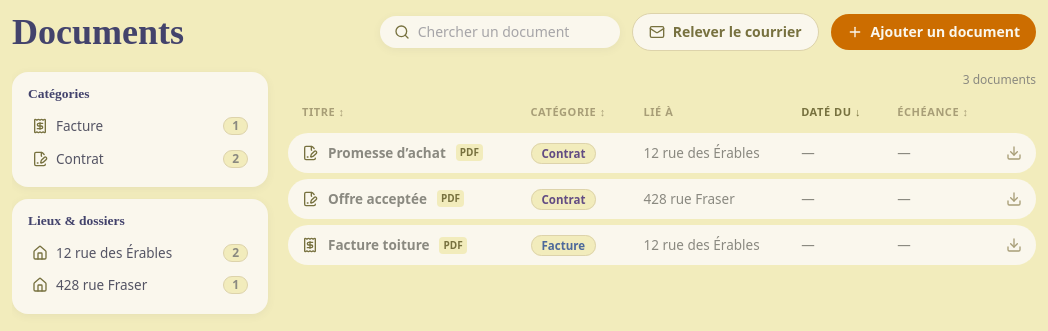
it: les facettes se combinent en ET et se retirent par jeton
The image size is (1048, 331).
Expected: the text "Facture toiture" is shown, [328,235,430,255]
Note: Facette catégorie : seuls les contrats restent.
Click the button with aria-label "Filtrer : Contrat": (140, 159) [24,142,256,175]
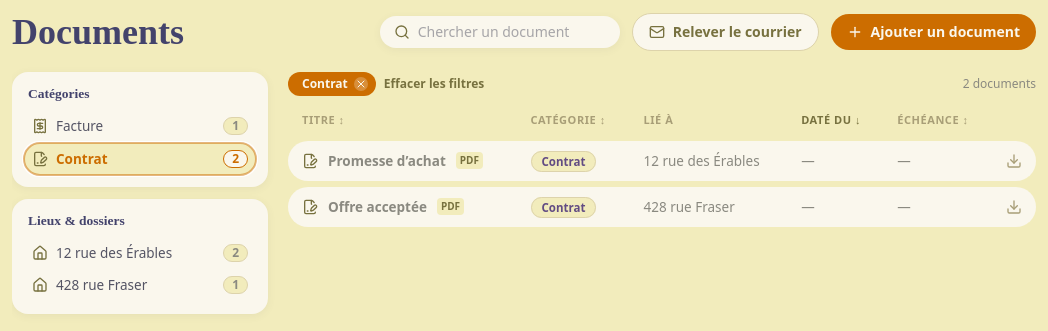
Expected: the text "Offre acceptée" is shown, [328,197,427,217]
Expected: the text "Facture toiture" is gone
Note: + facette dossier : intersection.
Click the button with aria-label "Filtrer : 12 rue des Érables": (140, 253) [24,237,256,269]
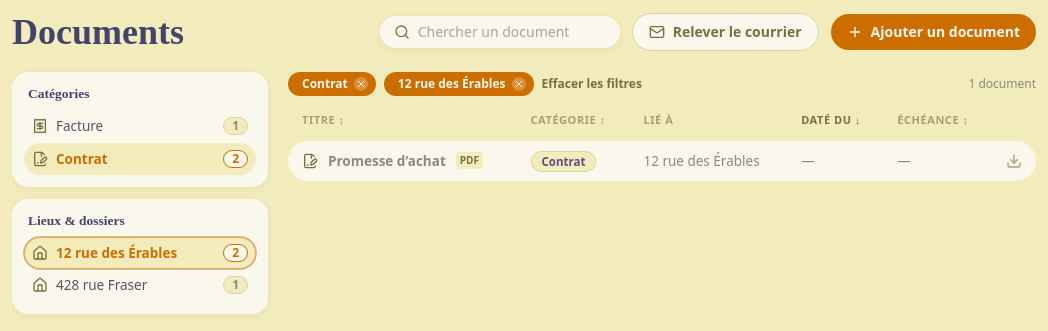
Expected: the text "Promesse d’achat" is shown, [328,150,446,171]
Expected: the text "Offre acceptée" is gone
Expected: the text "1 document" is shown, [968,76,1036,92]
Note: Retirer le jeton Contrat : le dossier reste seul actif.
Click the button with aria-label "Retirer le filtre Contrat": (332, 84) [288,72,376,96]
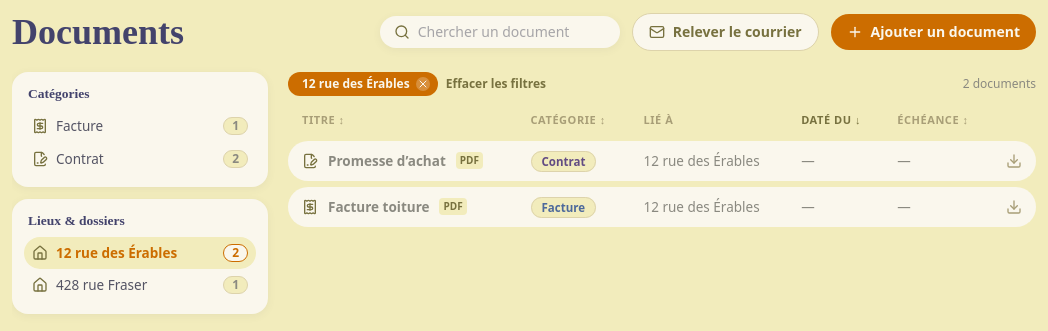
Expected: the text "Offre acceptée" is not shown
Expected: the text "Facture toiture" is shown, [328,197,430,217]
